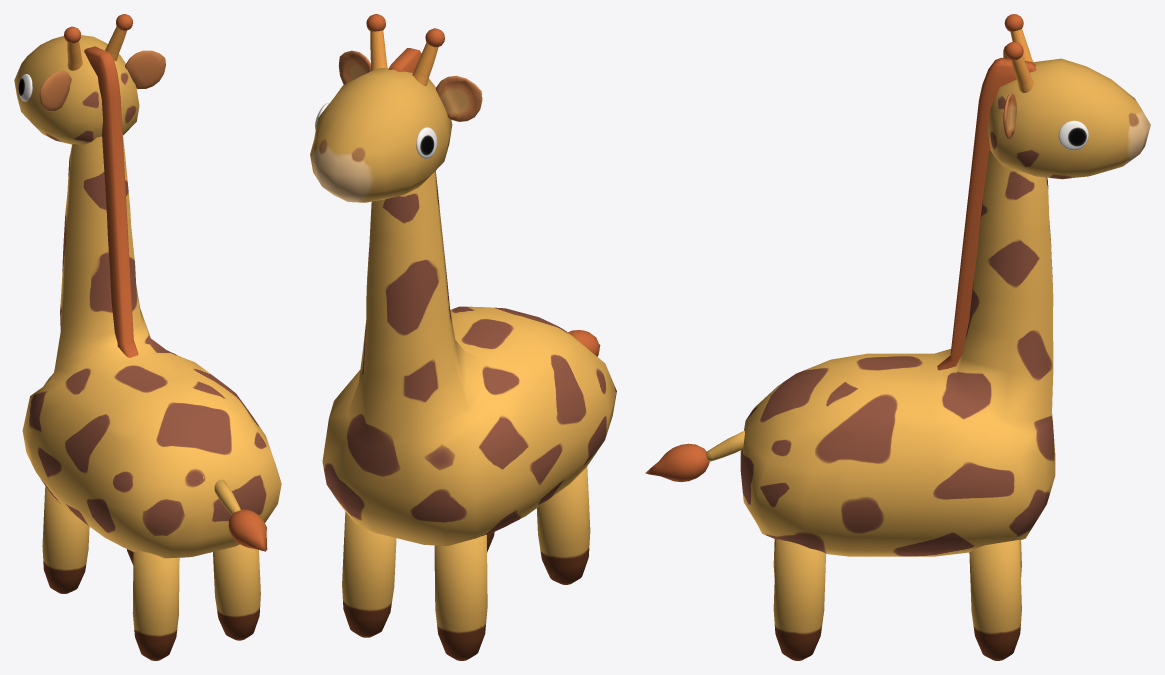
File: giraffe.fbx
3 renders of one model, left to right at view 1: azimuth 30°, elevation 25°; view 2: azimuth 150°, elevation 25°; view 3: azimuth 270°, elevation 25°, orthographic. The views are drawn at different scales.
Parts seen in each view (by area): view 1: Roundcube, Cylinder, Roundcube.002, Roundcube.006, Roundcube.004, Roundcube.003, Roundcube.005; view 2: Roundcube, Cylinder, Roundcube.002, Roundcube.004, Roundcube.005, Sphere, Roundcube.006; view 3: Roundcube, Roundcube.002, Cylinder, Roundcube.006, Roundcube.003, Roundcube.005, Sphere.
Boxes of the visible parts, x1,y1,x2,y2 form: Roundcube: (22,133,281,558); Cylinder: (42,486,260,660); Roundcube.002: (14,35,139,145); Roundcube.006: (84,46,138,357); Roundcube.004: (39,50,165,111); Roundcube.003: (214,479,267,551); Roundcube.005: (64,14,132,70); Roundcube: (322,171,616,545); Cylinder: (342,466,590,660); Roundcube.002: (310,68,452,202); Roundcube.004: (338,50,482,121); Roundcube.005: (366,14,444,85); Sphere: (315,103,437,158); Roundcube.006: (388,48,421,72); Roundcube: (740,149,1055,556); Roundcube.002: (988,58,1150,179); Cylinder: (773,539,1021,660); Roundcube.006: (937,57,1036,370); Roundcube.003: (645,430,744,482); Roundcube.005: (1004,14,1033,92); Sphere: (1058,120,1088,150).
Size of the model in its own units: 158 by 483 by 365.
Materials: 8 (8 with a texture image).
